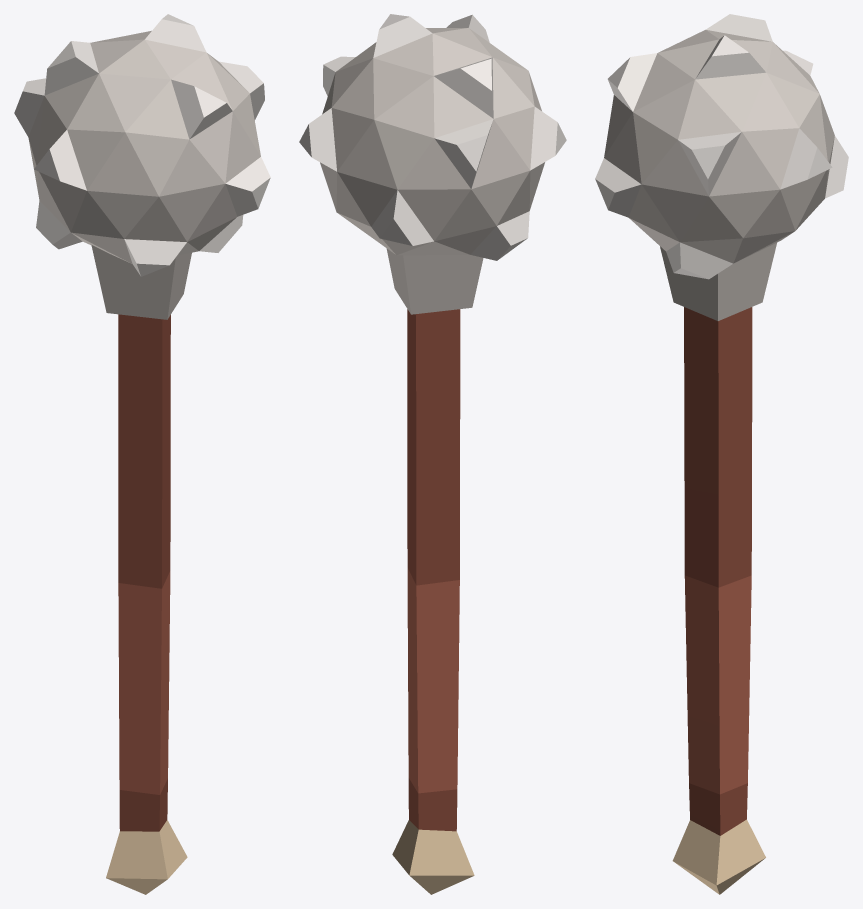
File: mace_1.glb
3 views of the same model, side by side, from view 1: azimuth 30°, elevation 25°; view 2: azimuth 150°, elevation 25°; view 3: azimuth 270°, elevation 25° (orthographic).
Visible parts, largest first — view 1: mace_1.001; view 2: mace_1.001; view 3: mace_1.001.
Part boxes in pixels (x1,y1,x2,y2): mace_1.001: [14, 14, 270, 894]; mace_1.001: [299, 14, 566, 894]; mace_1.001: [595, 14, 848, 894].
Size of the model in its own units: 0.2782 by 1 by 0.2647.
Materials: 1 (1 with a texture image).
